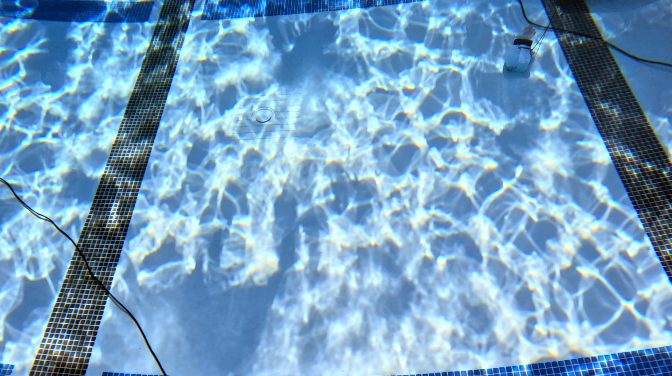sandbag: (503, 25, 539, 69)
